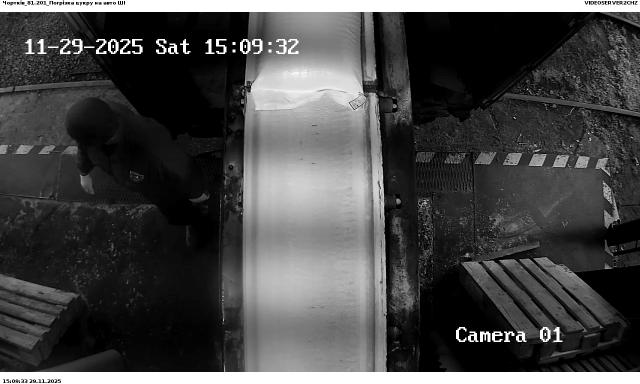bag: (252, 11, 366, 115)
